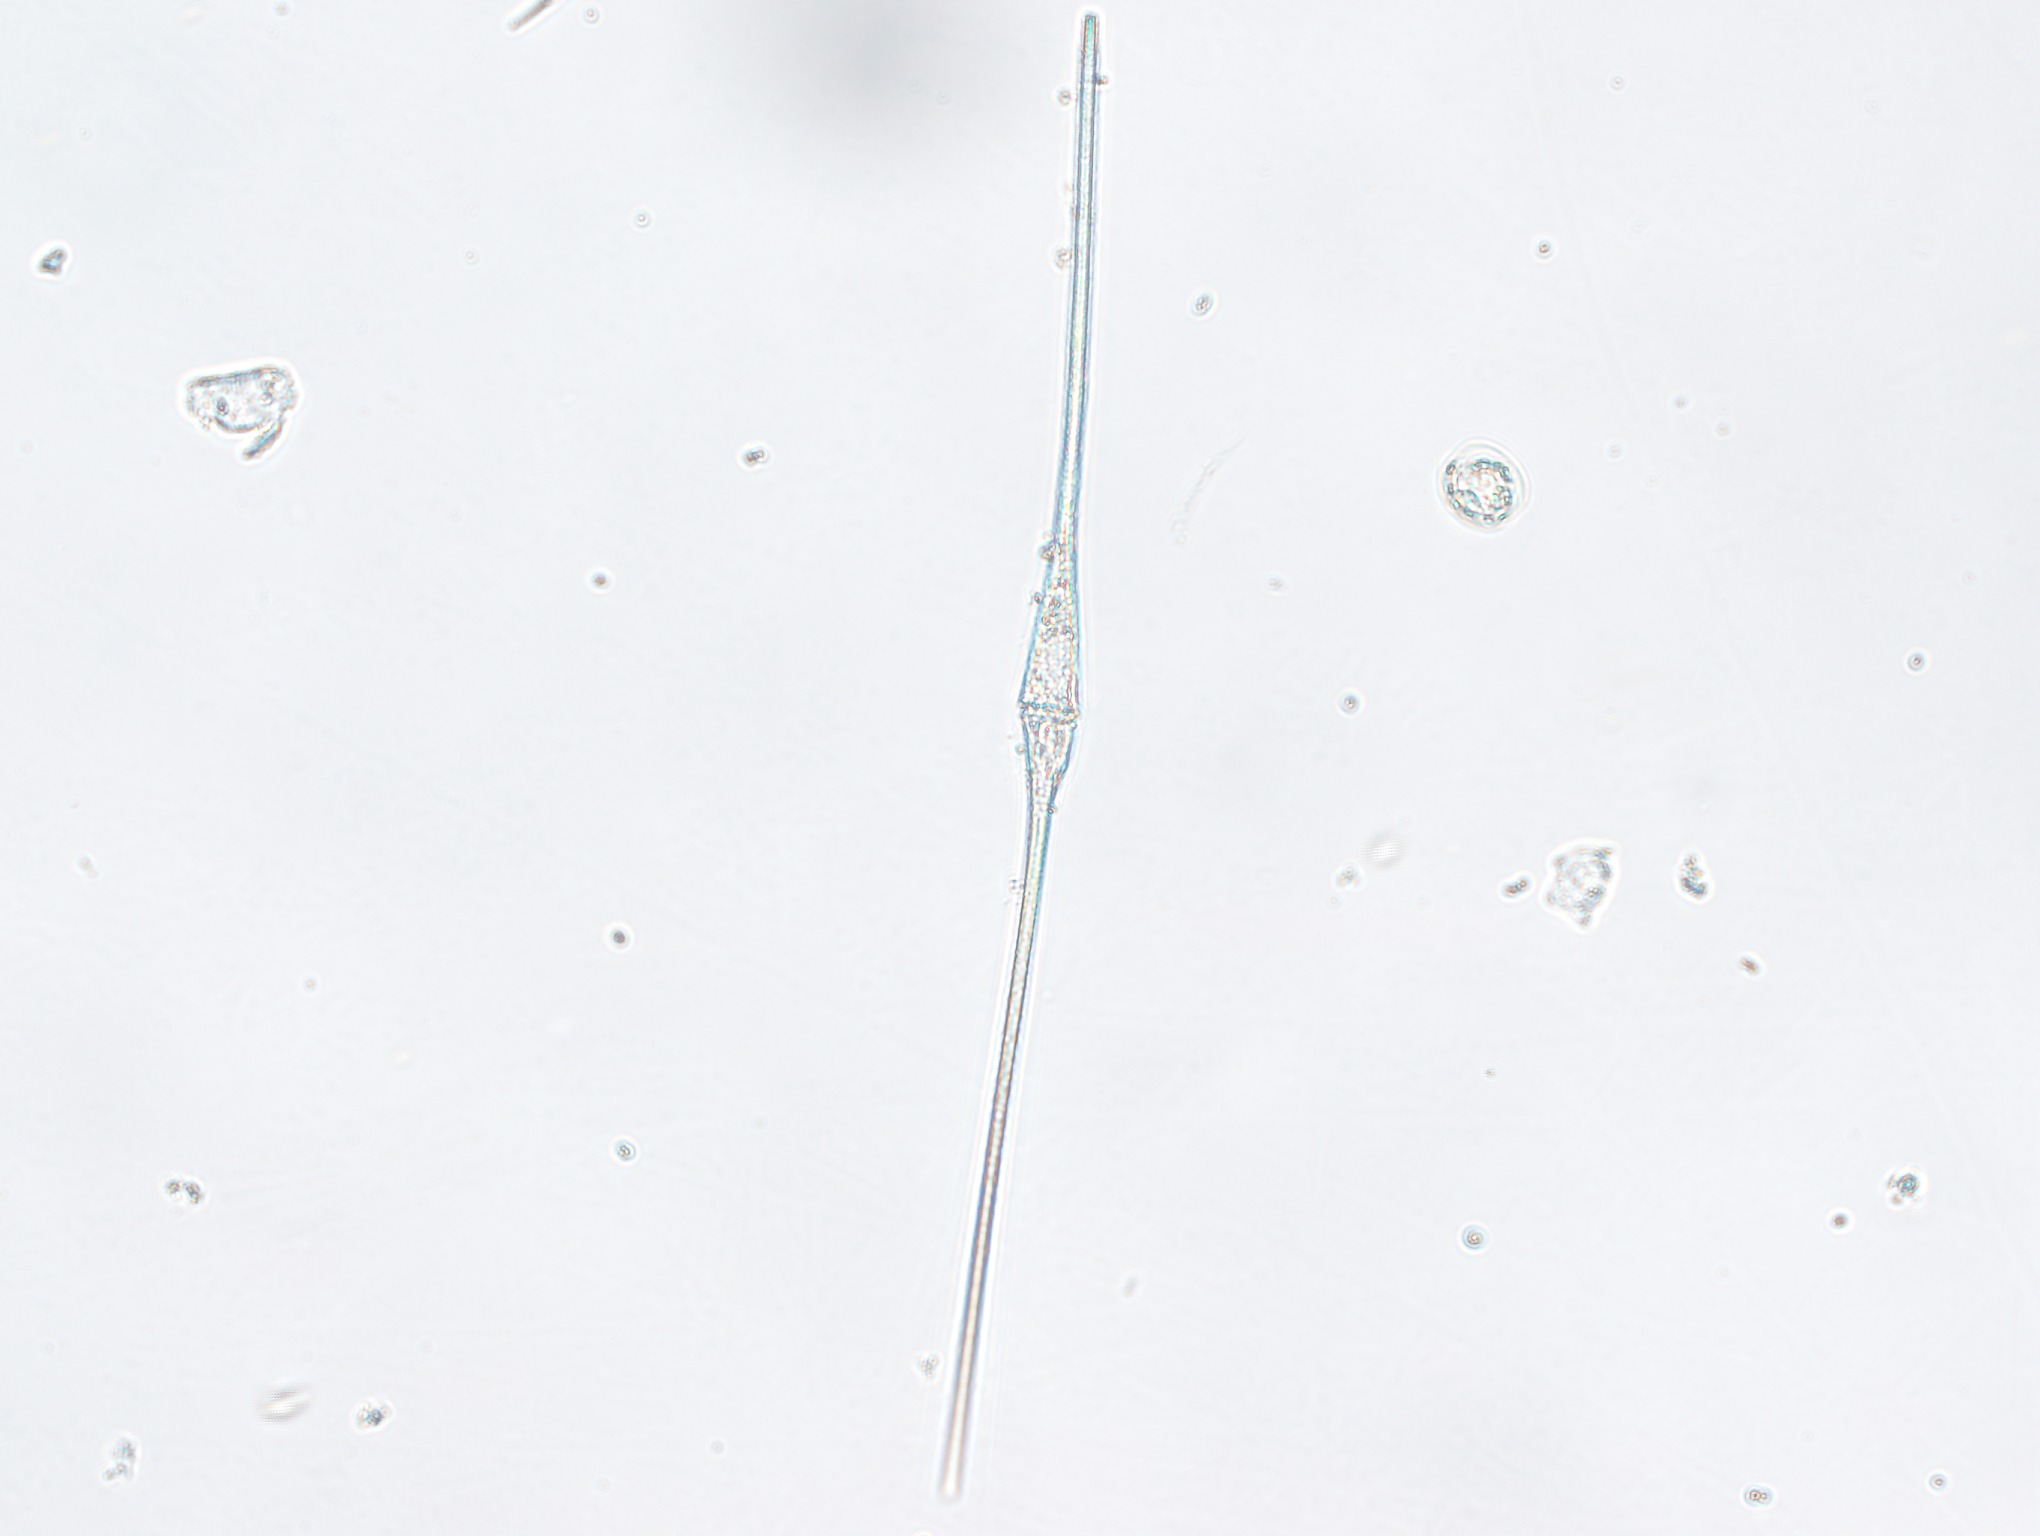ceratium fusus: (882, 15, 1166, 1520)
